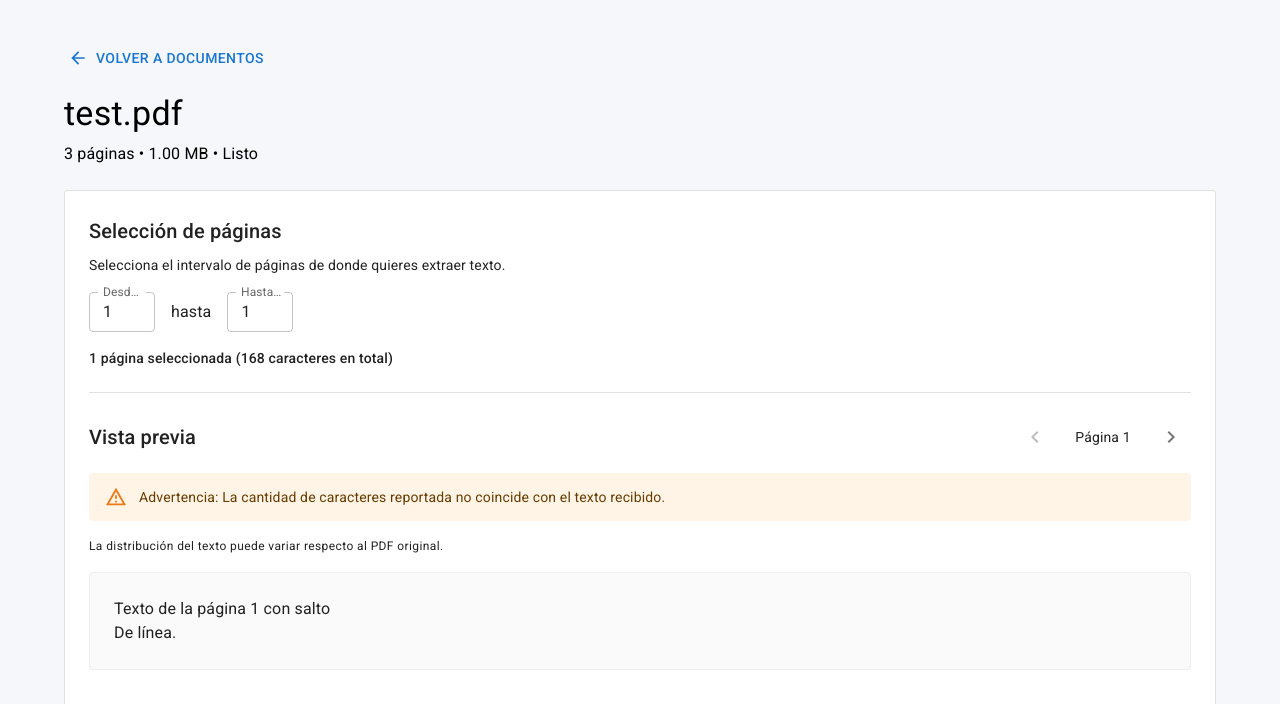
Scenario: DocumentDetailPage › resets the view index when the interval changes
// Mover a la página 2
Click the button named "Página siguiente" at (1171, 436), box [1151,416,1191,456]
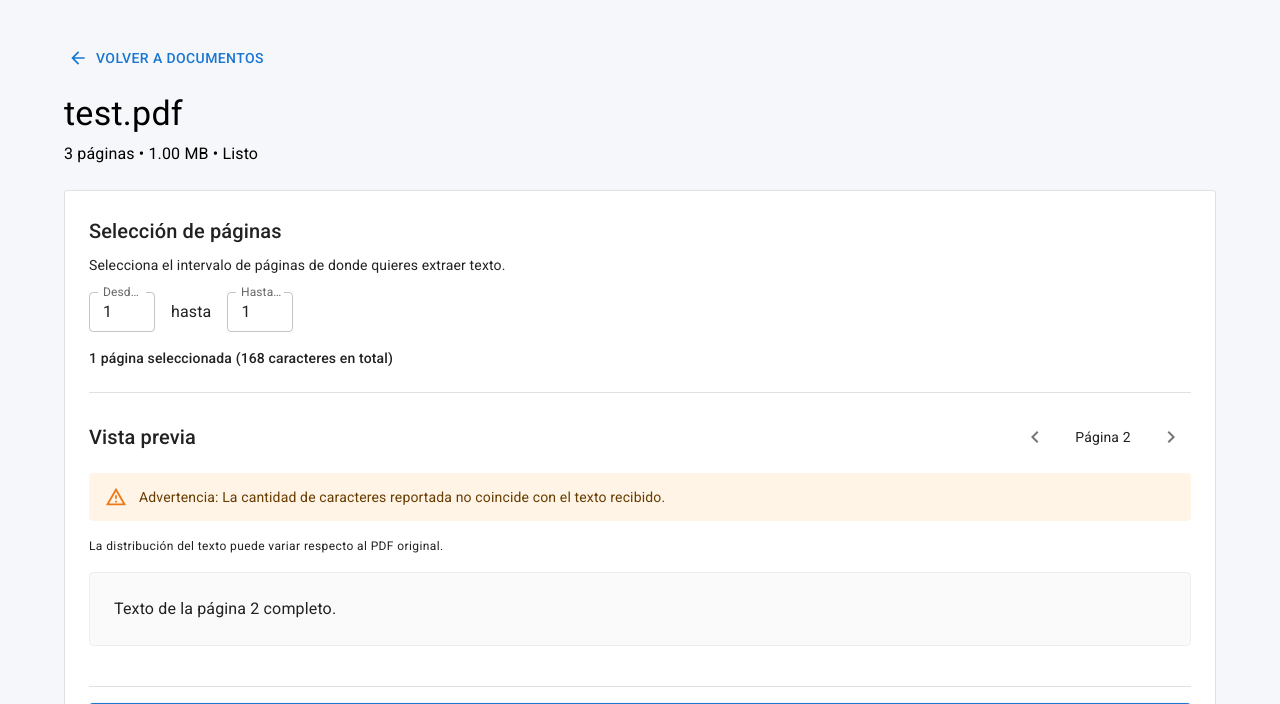
expect the text "Página 2" is shown: met, box [1075,428,1131,444]
// Cambiar intervalo (From)
Replace the text in the number field labelled "Desde la página" with "2" at (122, 312), box [89,292,155,332]
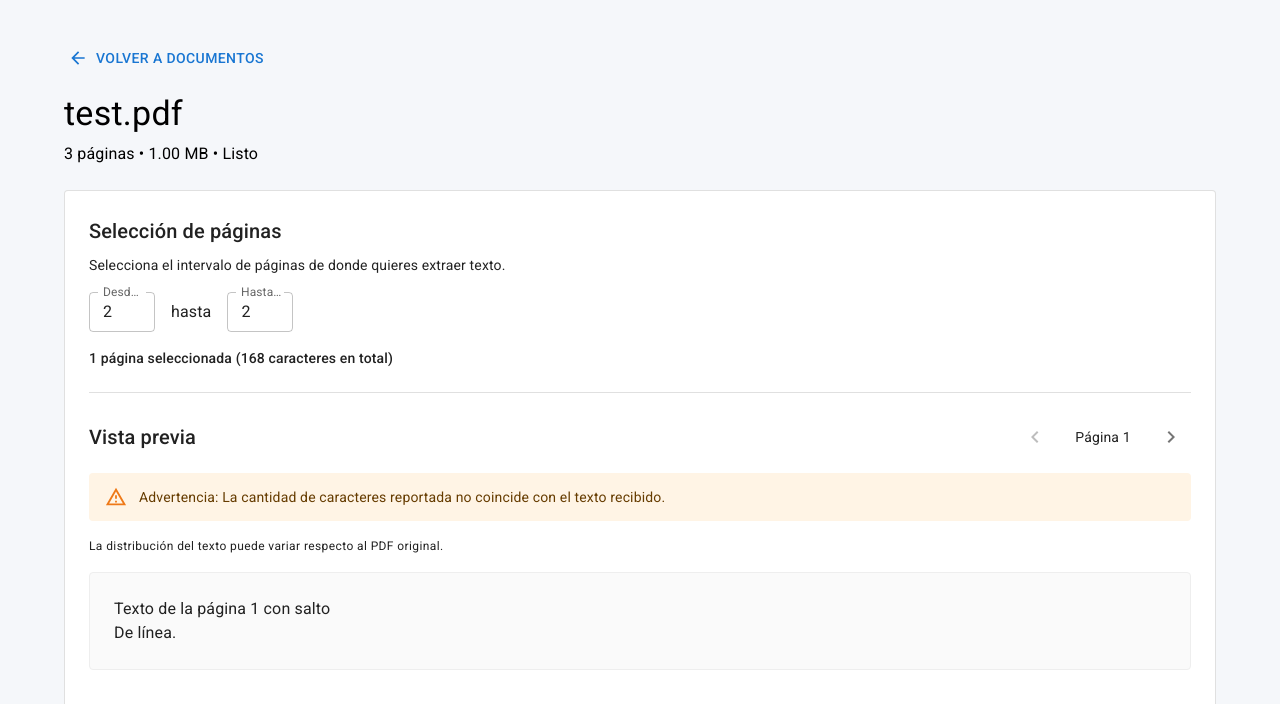
expect the text "Página 1" is shown: met, box [1075,428,1131,444]
